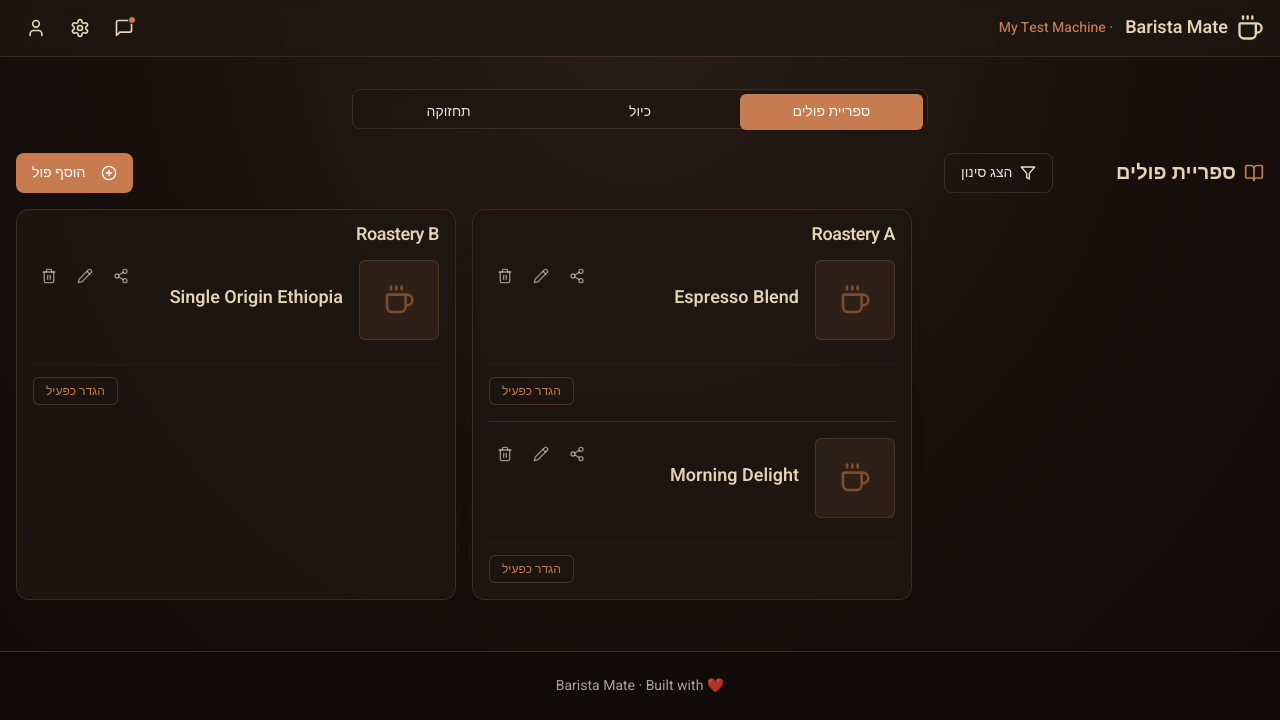
Test: Feedback Form › send button is enabled when message is not empty
Click the button named "פידבק" at [124, 28], box left=104, top=8, right=144, bottom=48
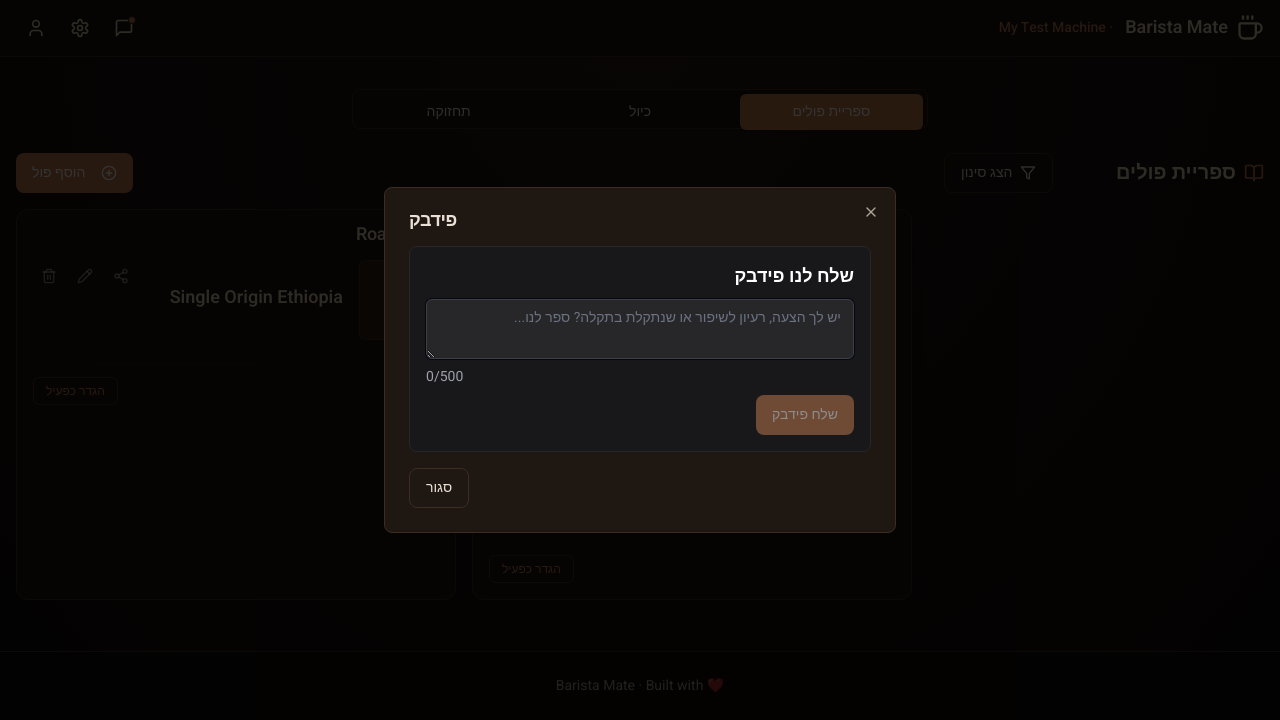
Type "This is a test feedback message." into the text box with placeholder "יש לך הצעה, רעיון לשיפור או שנתקלת בתקלה? ספר לנו..." at [640, 329], box left=426, top=299, right=854, bottom=359
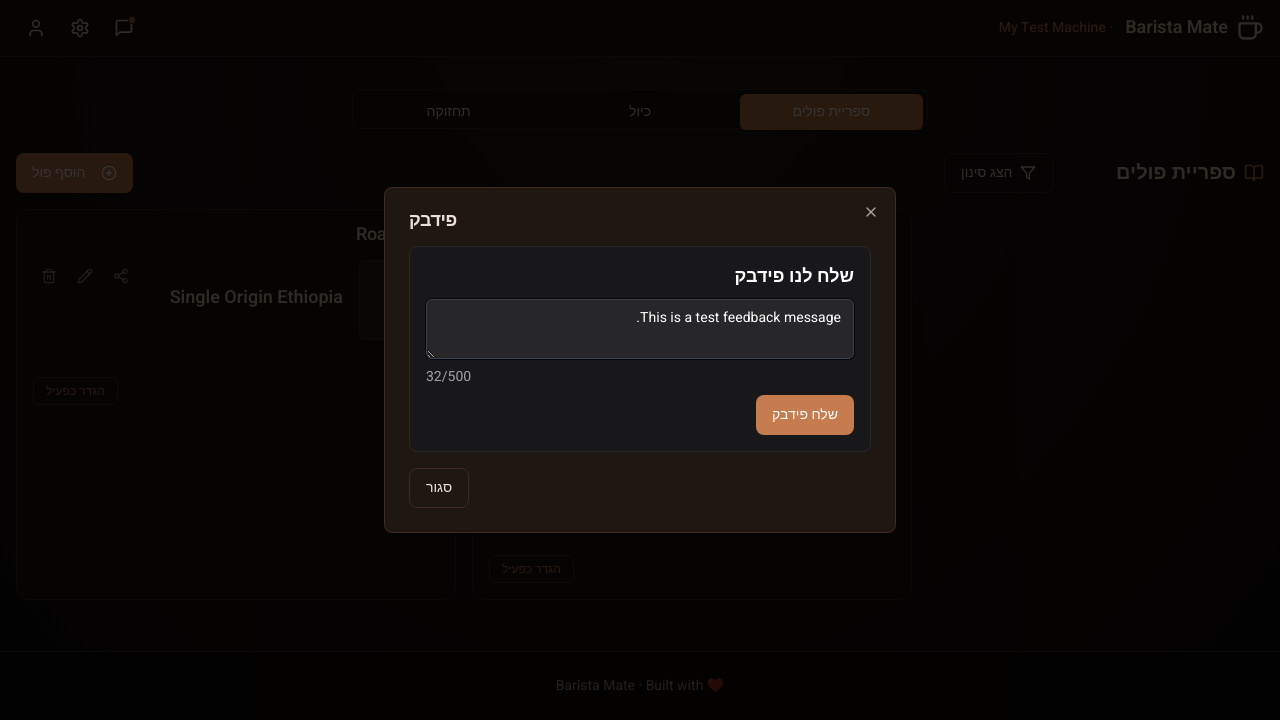
Now the button "שלח פידבק" is enabled, box left=756, top=395, right=854, bottom=435
